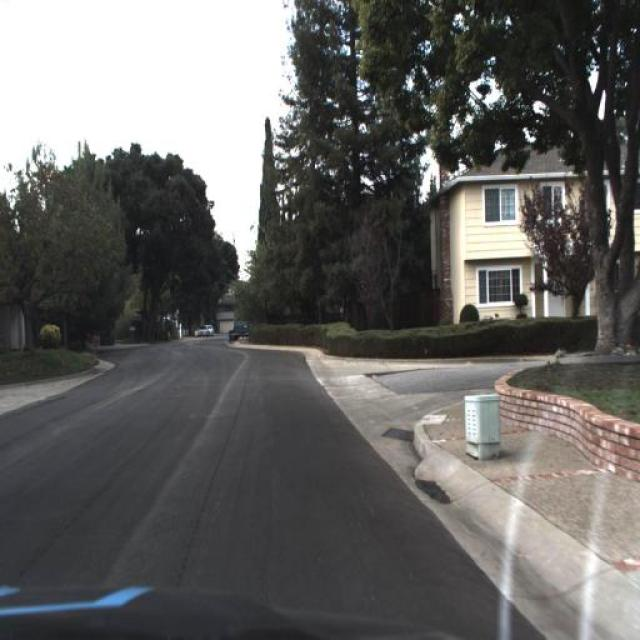car: (233, 306, 258, 340), (198, 325, 208, 336), (205, 325, 214, 336)
